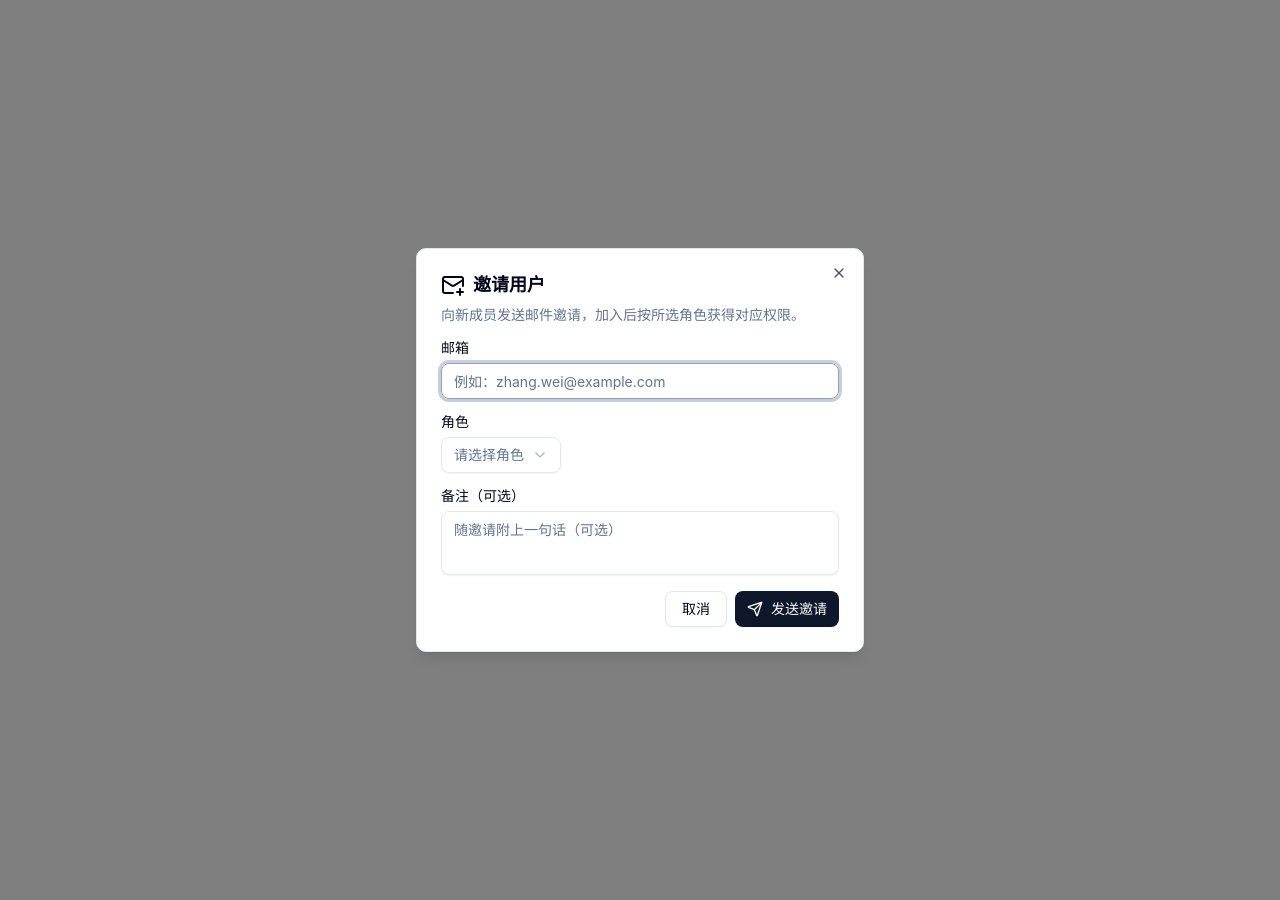
UsersInviteDialog › shows validation messages when submitting empty form
The image size is (1280, 900).
Click the button "发送邀请".
click(787, 609)  # box [735,591,839,627]
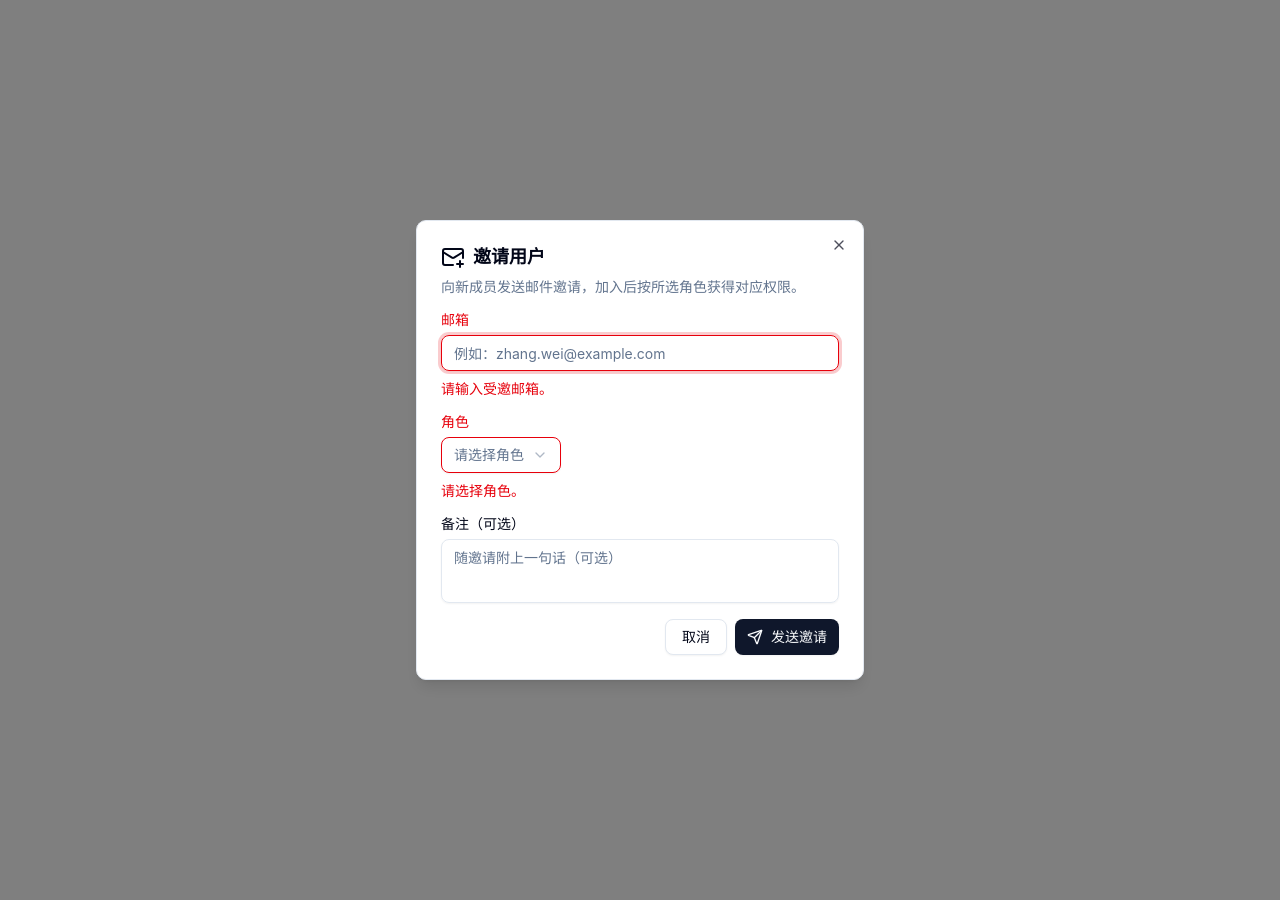
Result: the text "请输入受邀邮箱。" is shown at [441,380,553,397]
Result: the text "请选择角色。" is shown at [441,482,525,499]
